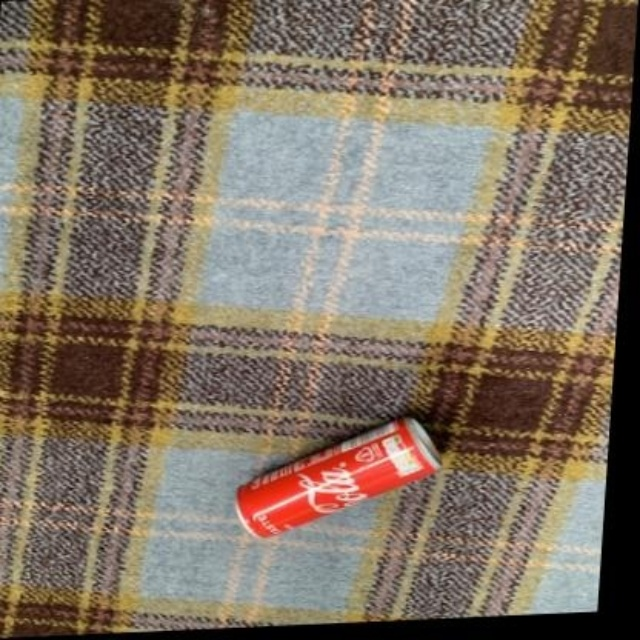trash: (237, 418, 440, 537)
